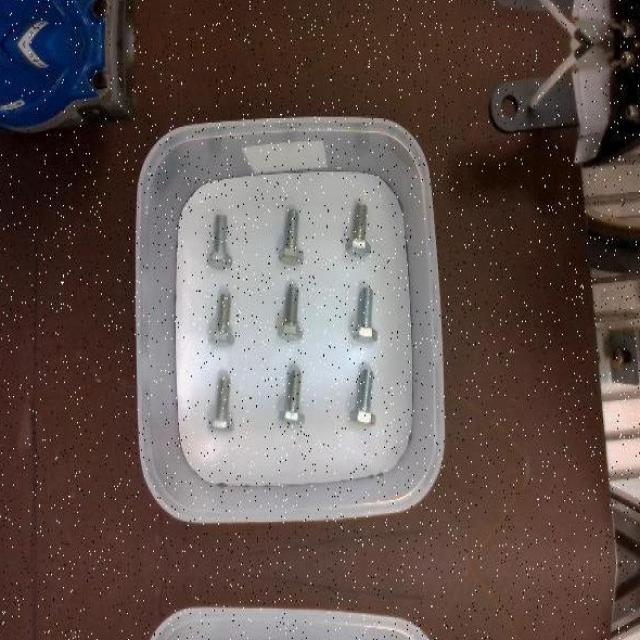screw: (208, 290, 236, 346), (279, 208, 305, 266), (278, 284, 304, 341), (346, 201, 372, 257), (208, 375, 234, 430), (352, 288, 378, 342), (351, 368, 376, 424), (279, 368, 304, 424), (207, 214, 232, 268)
